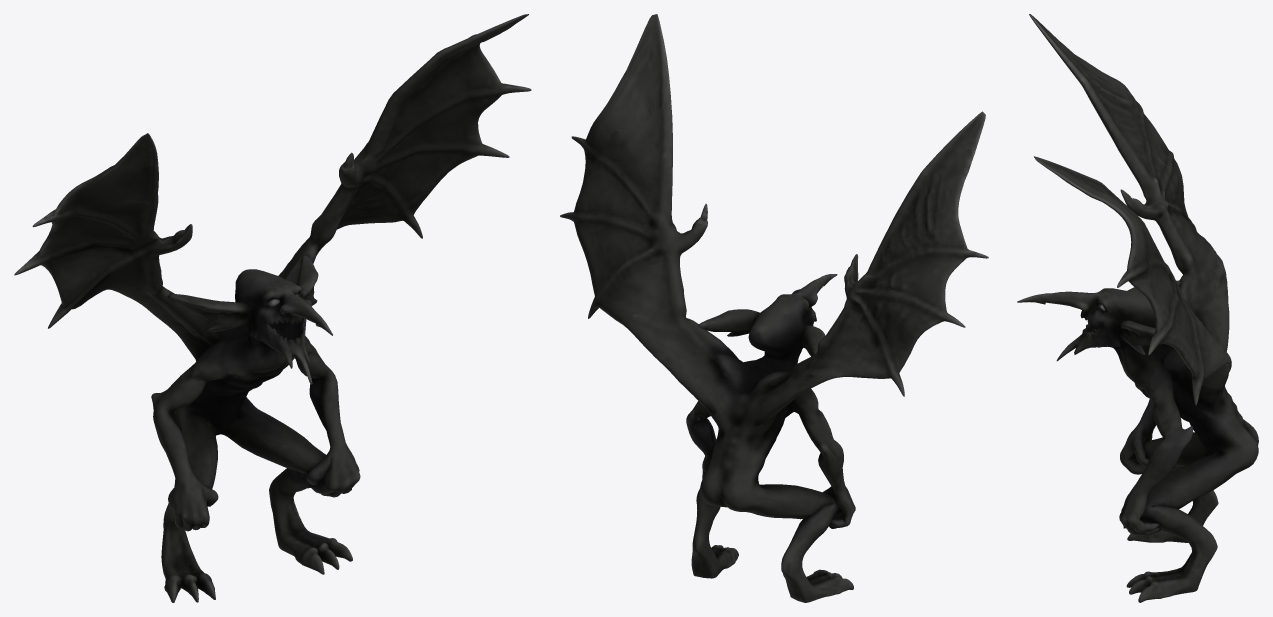
File: MZ4250 - Smoke Mephit_2 2025.glb
3 views of the same model, side by side, from view 1: azimuth 30°, elevation 25°; view 2: azimuth 150°, elevation 25°; view 3: azimuth 270°, elevation 25° (orthographic). The views are drawn at different scales.
Visible parts, largest first — view 1: Cylinder.001; view 2: Cylinder.001; view 3: Cylinder.001.
Boxes of the visible parts, left/top/right/bottom form: Cylinder.001: left=14, top=14, right=531, bottom=602; Cylinder.001: left=560, top=14, right=988, bottom=602; Cylinder.001: left=1017, top=14, right=1258, bottom=602.
Size of the model in its own units: 97.43 by 106 by 46.87.
Materials: 1 (1 with a texture image).
